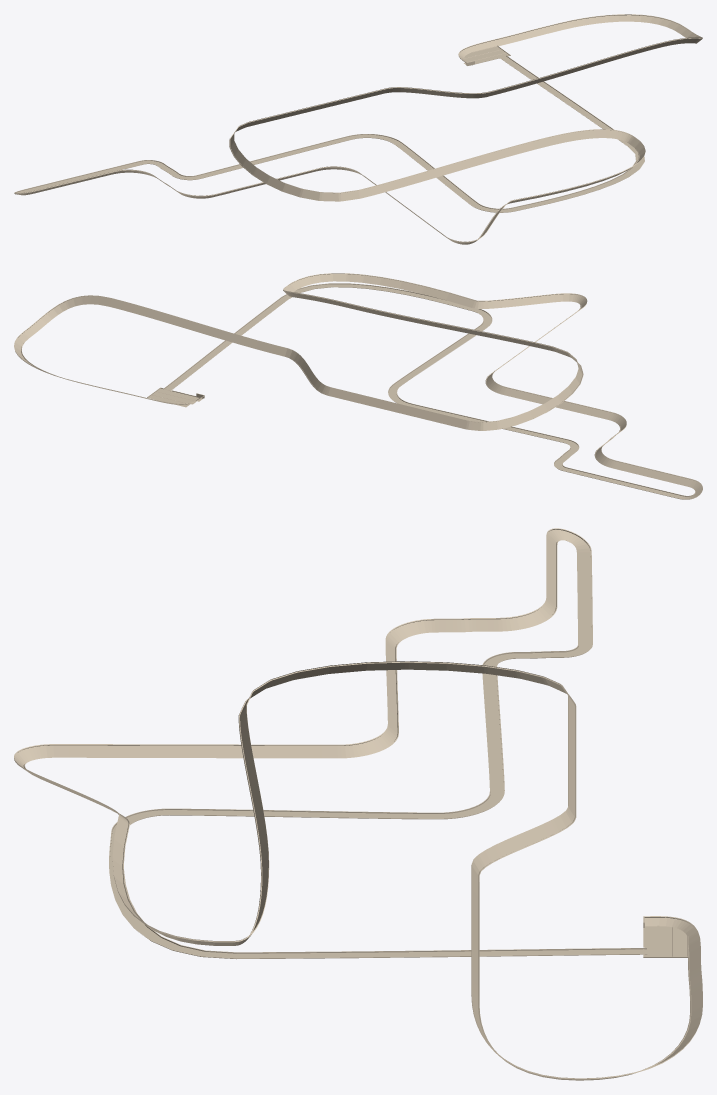
The model's file is RacetrackONLY.obj.
3 views of the same model, one above another, from view 1: azimuth 30°, elevation 25°; view 2: azimuth 150°, elevation 25°; view 3: azimuth 270°, elevation 25° (orthographic). The views are drawn at different scales.
Parts seen in each view (by area): view 1: Tracks, StartPlanes.001; view 2: Tracks, StartPlanes.001; view 3: Tracks, StartPlanes.001.
Boxes of the visible parts, x1,y1,x2,y2 form: Tracks: [14, 14, 702, 244]; StartPlanes.001: [464, 45, 510, 65]; Tracks: [14, 273, 702, 499]; StartPlanes.001: [147, 387, 204, 407]; Tracks: [14, 528, 702, 1080]; StartPlanes.001: [643, 916, 688, 957].
Size of the model in its own units: 26.43 by 1.05 by 14.12.
1 material, 1 textured.
